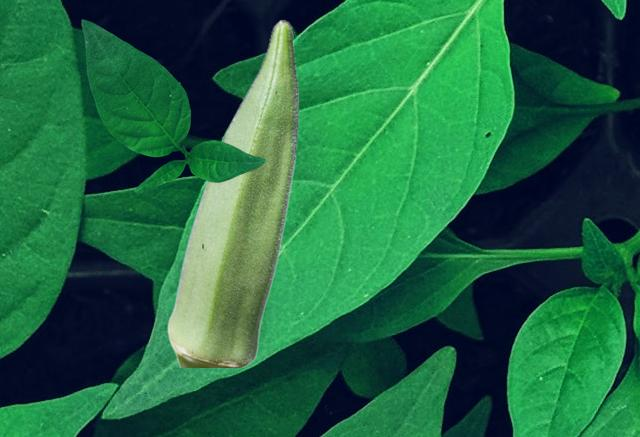okra: (167, 19, 298, 366)
